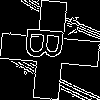B: (25, 25, 73, 63)
